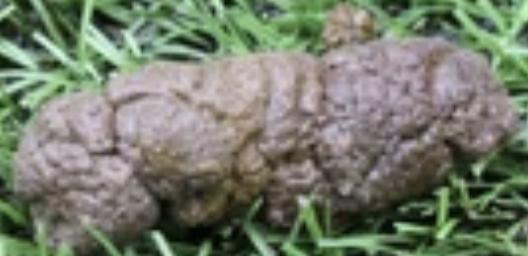dog_poop: (1, 0, 527, 255)
